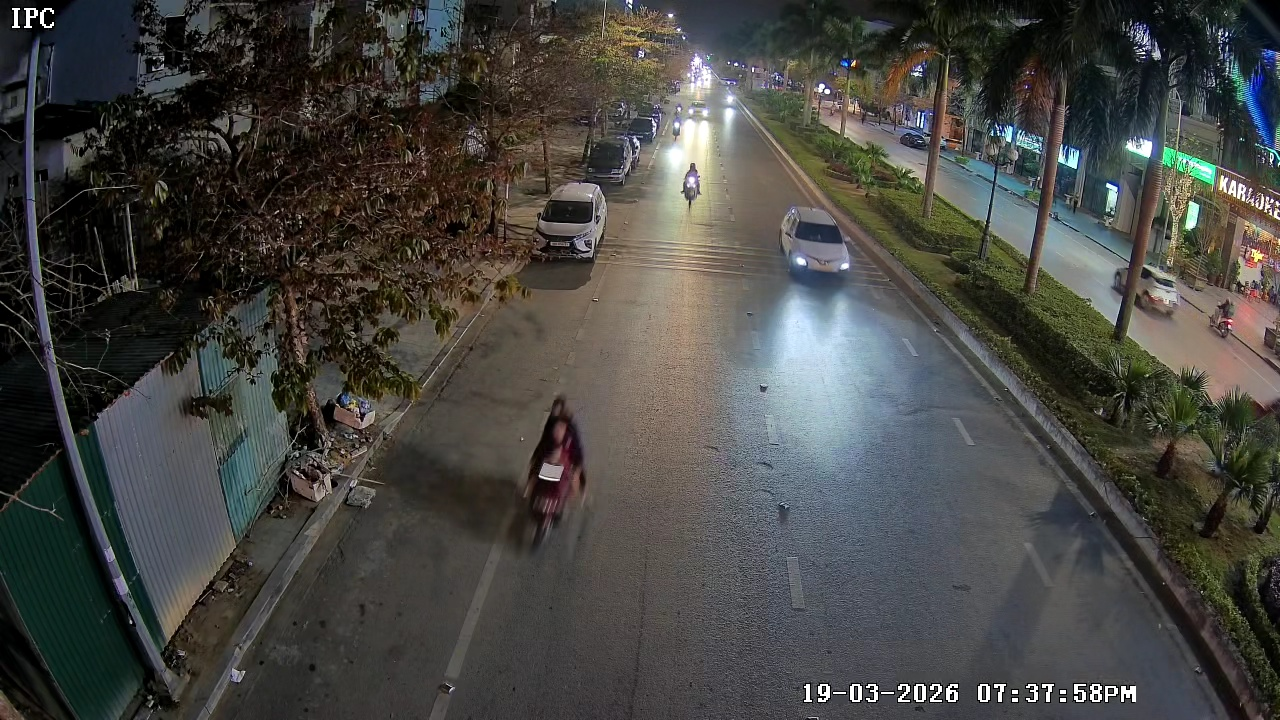car: (531, 180, 609, 265), (779, 204, 853, 281), (581, 131, 641, 187), (685, 99, 715, 126)
motorbike: (509, 393, 593, 555), (680, 158, 703, 206), (671, 109, 685, 139)
